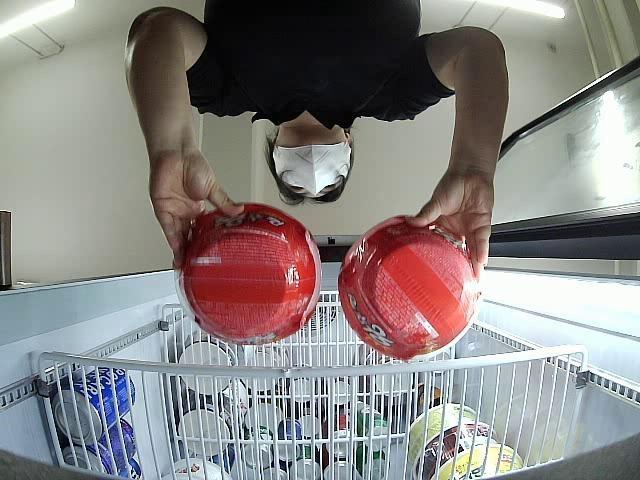10_wangTtukkeong: (175, 202, 324, 344), (339, 216, 481, 360)
